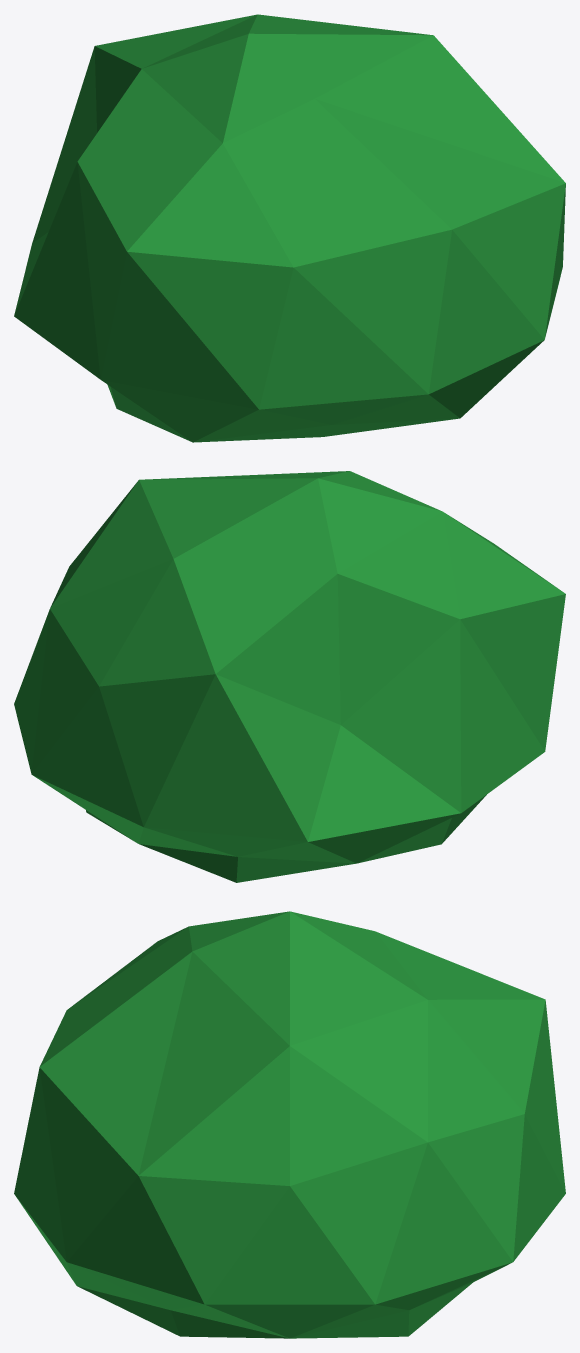
Rendered from Bush.fbx.
3 views of the same model, one above another, from view 1: azimuth 30°, elevation 25°; view 2: azimuth 150°, elevation 25°; view 3: azimuth 270°, elevation 25° (orthographic). The views are drawn at different scales.
Parts seen in each view (by area): view 1: Icosphere; view 2: Icosphere; view 3: Icosphere.
Part boxes in pixels (box(x1,y1,x2,y2)): Icosphere: box(14, 14, 565, 442); Icosphere: box(14, 471, 565, 882); Icosphere: box(14, 911, 565, 1338).
Size of the model in its own units: 347 by 258 by 364.
